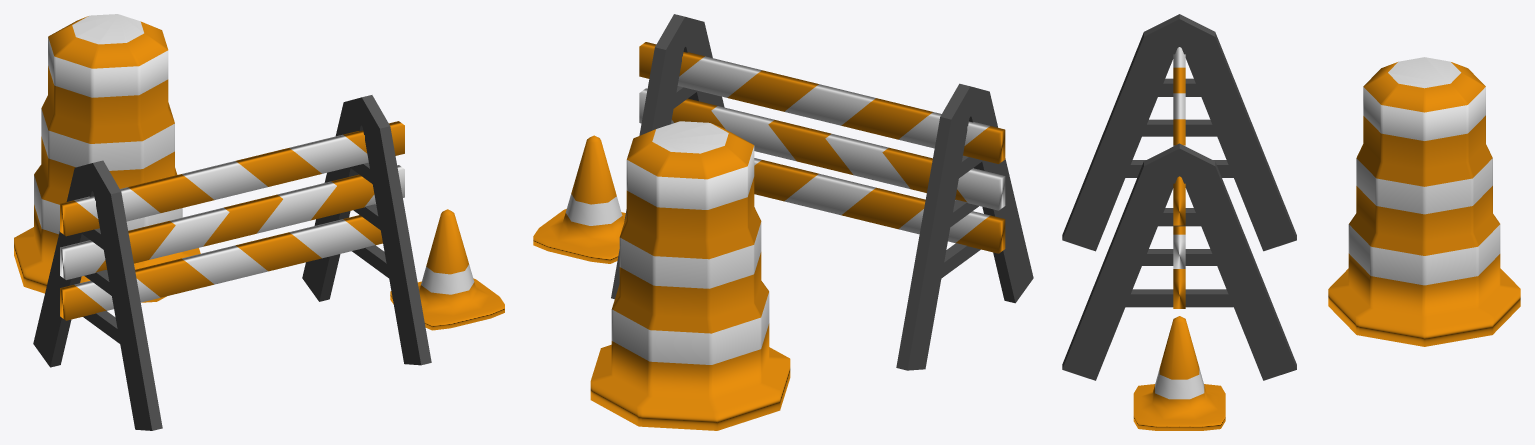
Rendered from traffic.fbx.
3 renders of one model, left to right at view 1: azimuth 30°, elevation 25°; view 2: azimuth 150°, elevation 25°; view 3: azimuth 270°, elevation 25°, orthographic. The views are drawn at different scales.
Visible parts, largest first — view 1: Cylinder, Plane, Plane.001, Cube.002, Cube.003, Cube.001, Cube; view 2: Cylinder, Plane, Cube.002, Cube.003, Cube.001, Cube, Plane.001; view 3: Cylinder, Plane.001, Plane, Cube, Cube.002, Cube.003, Cube.001.
Part boxes in pixels (box(x1,y1,x2,y2)): Cylinder: box(14, 14, 200, 302); Plane: box(33, 160, 162, 430); Plane.001: box(302, 95, 431, 365); Cube.002: box(60, 121, 404, 236); Cube.003: box(60, 165, 404, 279); Cube.001: box(60, 215, 382, 320); Cube: box(390, 209, 504, 330); Cylinder: box(590, 121, 790, 430); Plane: box(896, 83, 1033, 370); Cube.002: box(639, 42, 1005, 163); Cube.003: box(639, 88, 1005, 210); Cube.001: box(754, 158, 1005, 253); Cube: box(533, 135, 625, 263); Plane.001: box(611, 14, 724, 299); Cylinder: box(1328, 57, 1520, 346); Plane.001: box(1062, 143, 1296, 380); Plane: box(1062, 14, 1296, 251); Cube: box(1133, 316, 1225, 430); Cube.002: box(1173, 47, 1185, 225); Cube.003: box(1173, 226, 1185, 268); Cube.001: box(1173, 269, 1185, 308).
Bounding box in the file's own units: 1580 × 868 × 1497.
